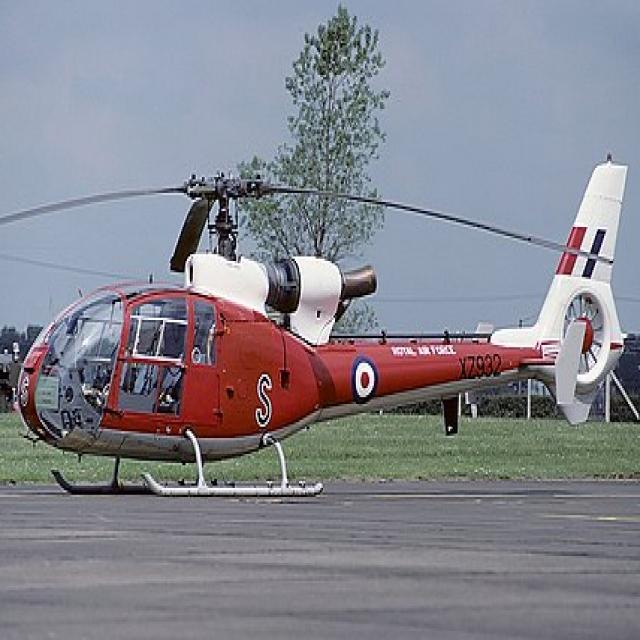helicopter: (1, 178, 640, 509)
